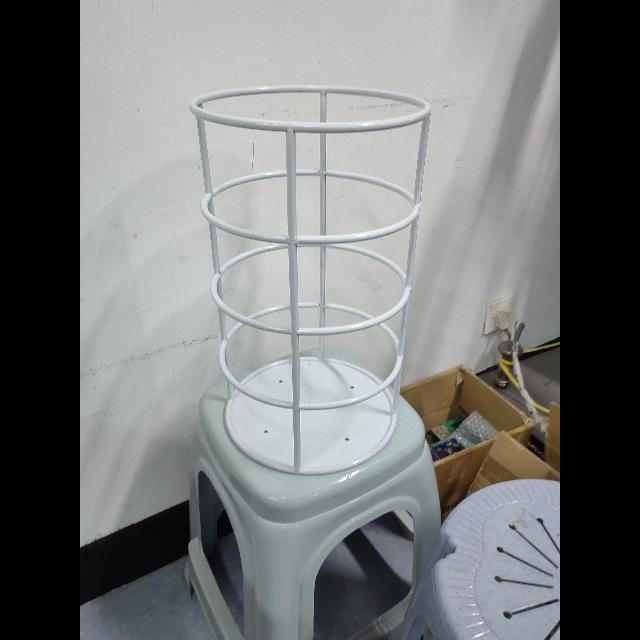S: (185, 77, 435, 483)
